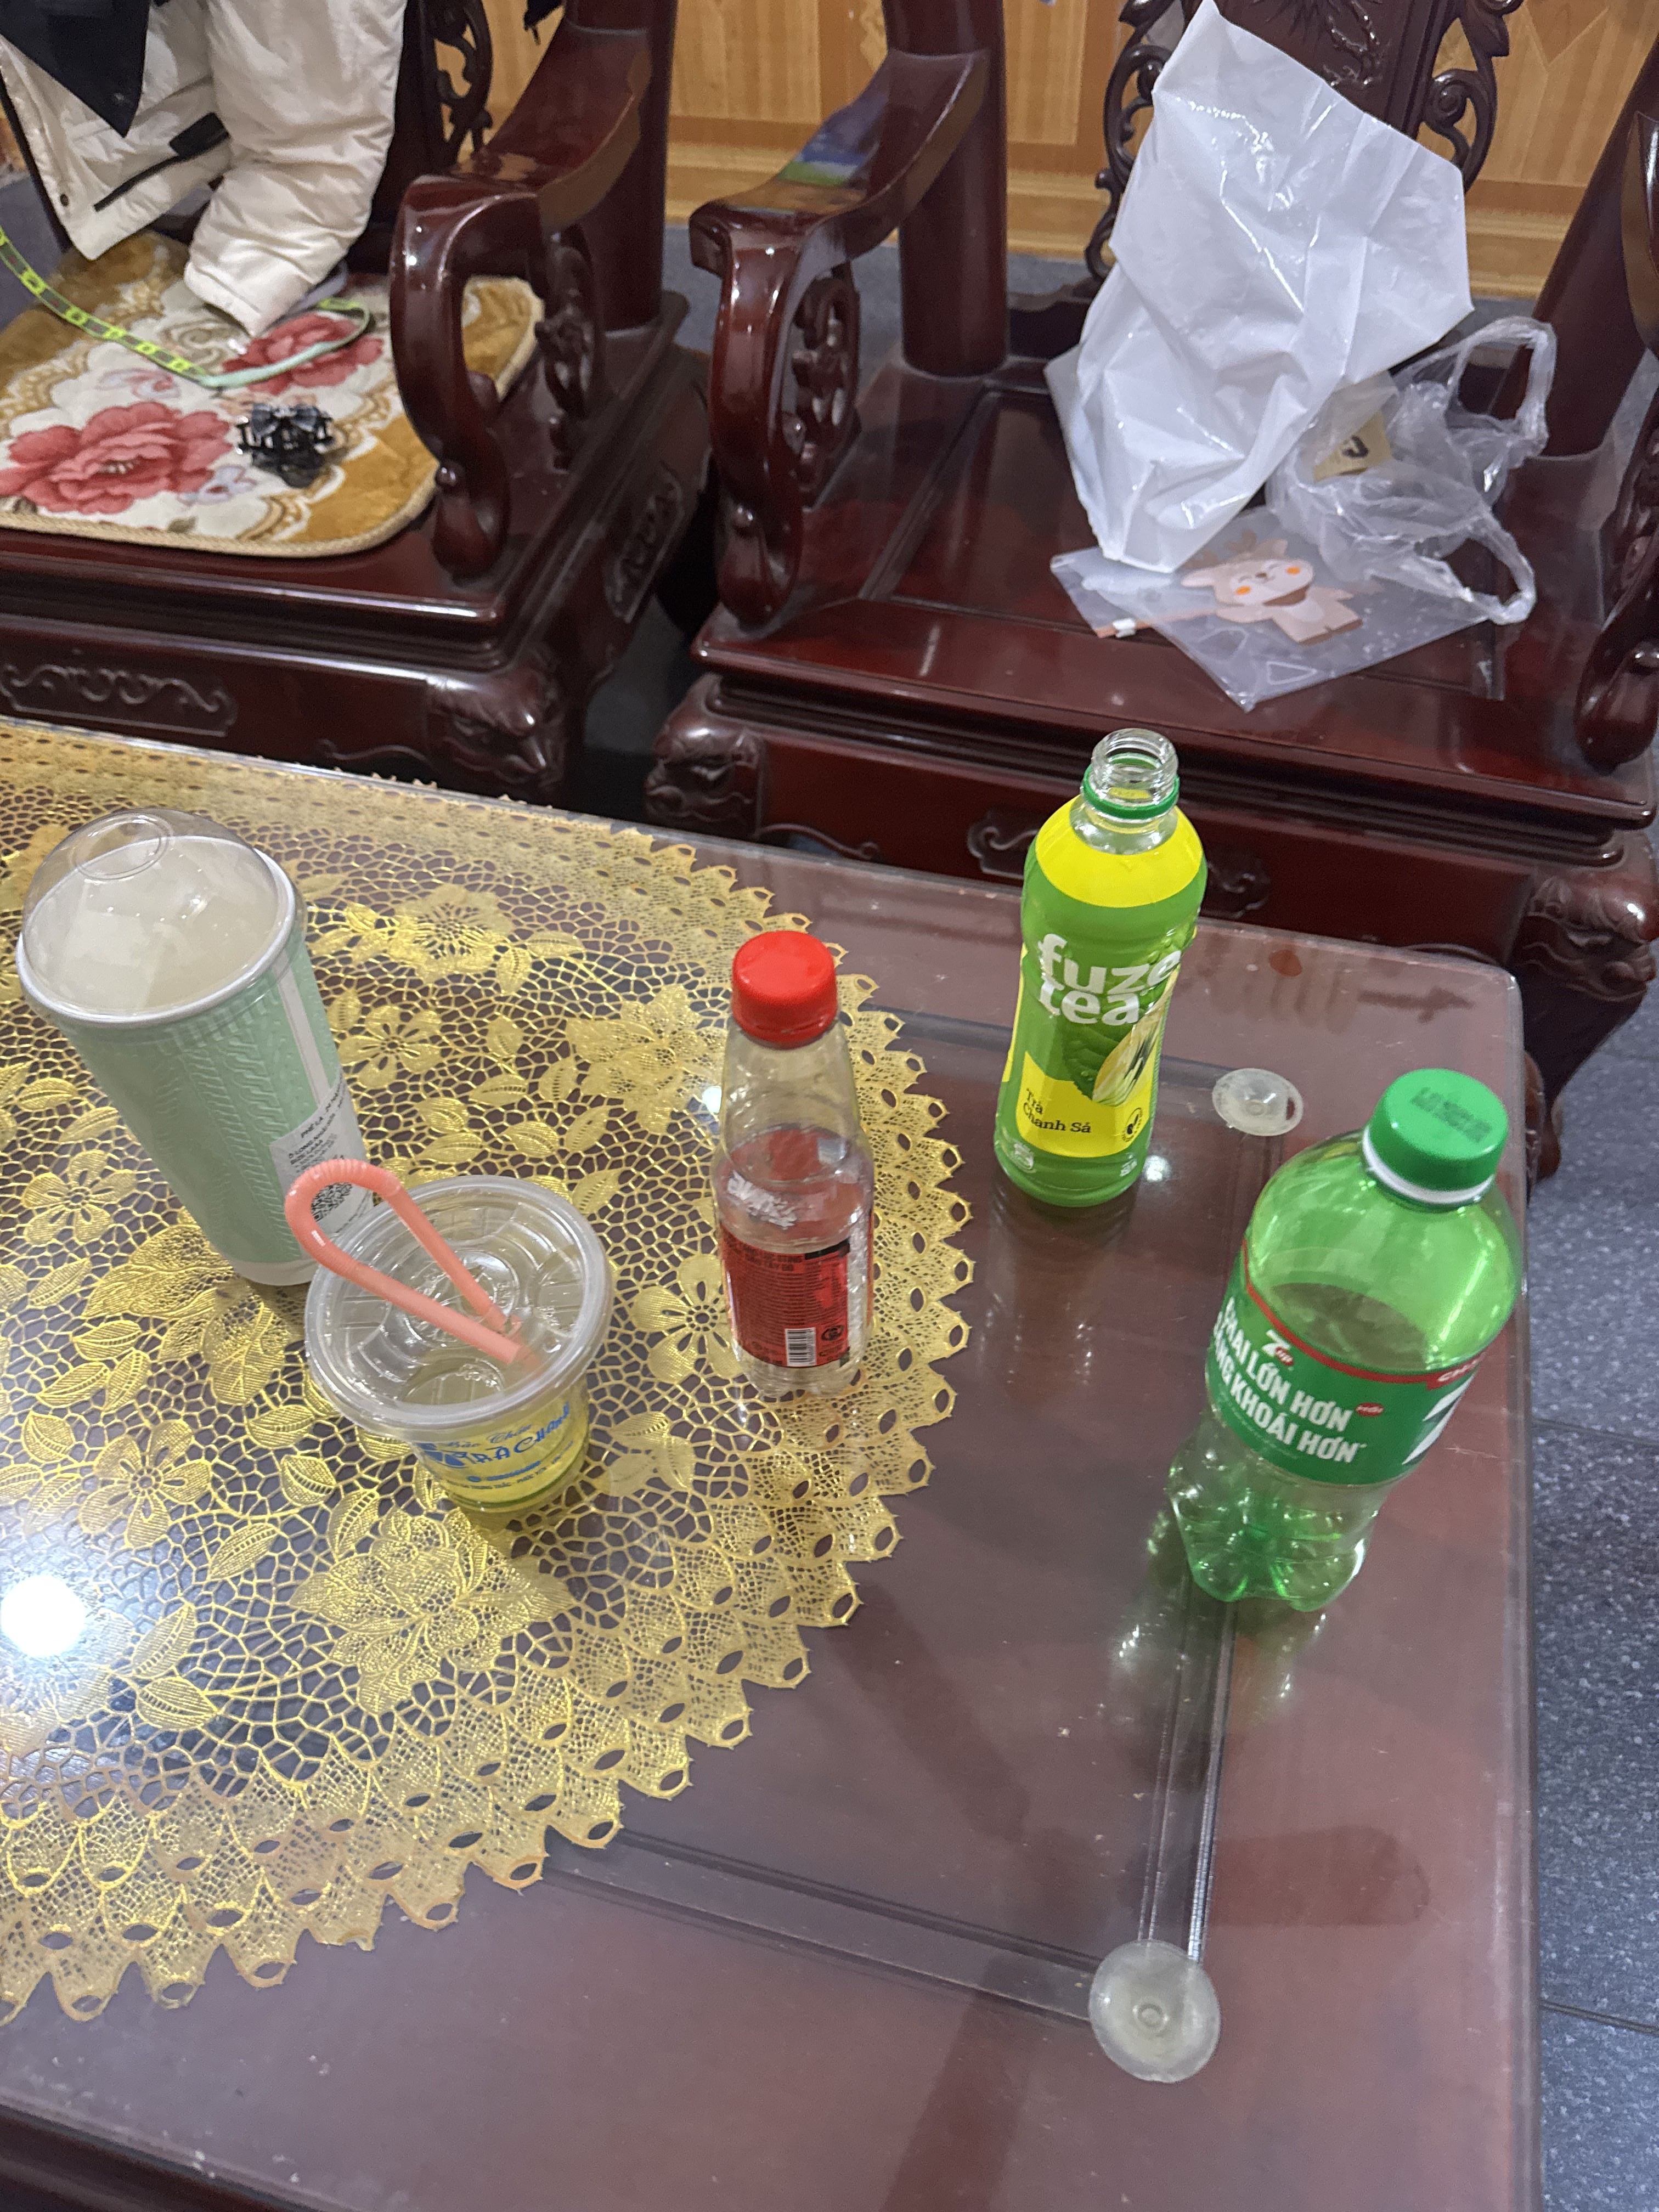bottle: (1073, 1042, 1596, 1683), (934, 702, 1272, 1252), (674, 894, 936, 1494)
cup: (0, 726, 436, 1353), (251, 1141, 645, 1580)
